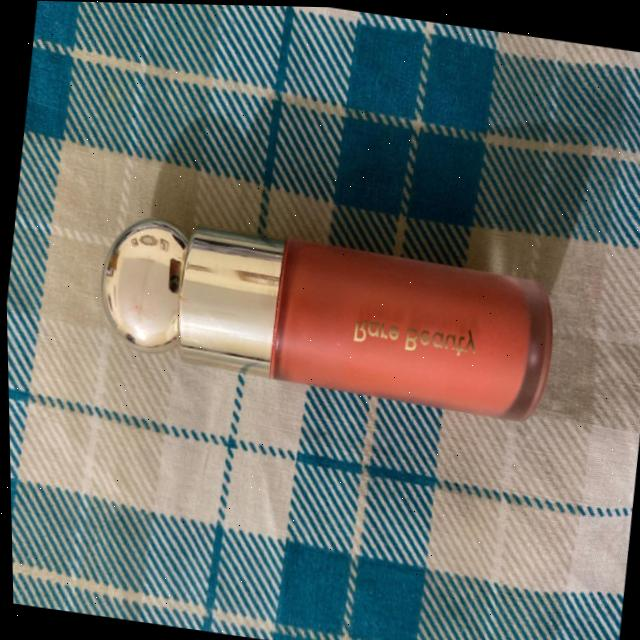lip gloss: (69, 155, 590, 467)
